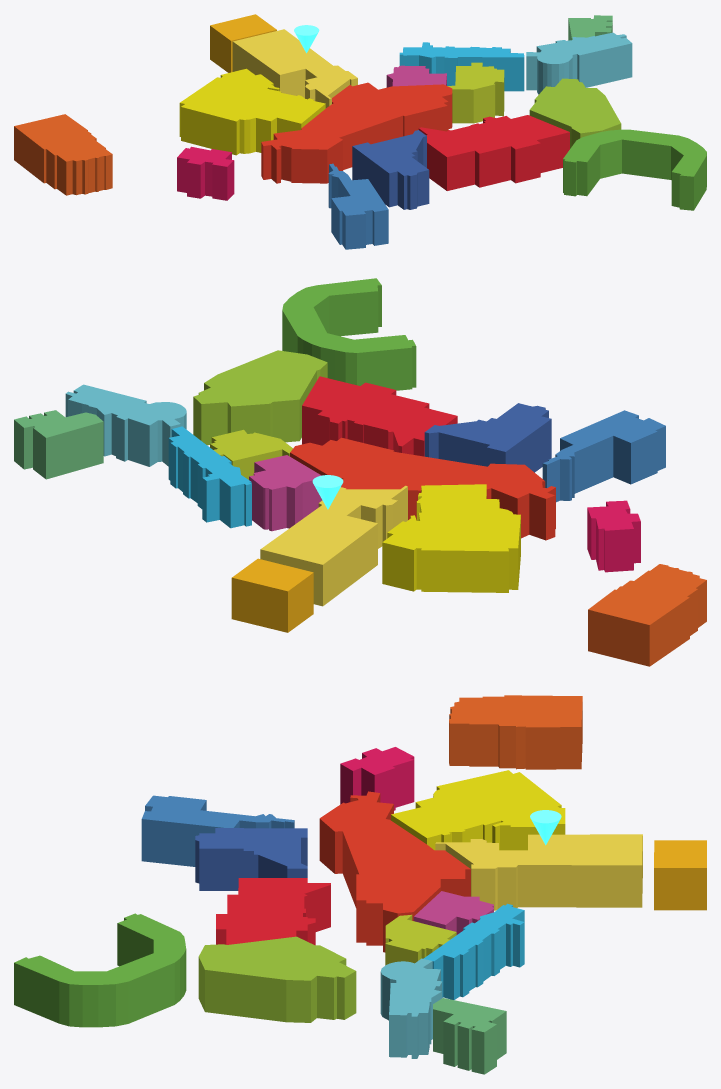
The model's file is sheridan2.gltf.
The picture shows the model from 3 angles, top to bottom: view 1: azimuth 30°, elevation 25°; view 2: azimuth 150°, elevation 25°; view 3: azimuth 270°, elevation 25°; orthographic projection. The views are drawn at different scales.
Parts seen in each view (by area): view 1: b-wing, c-wing, animation-centre, residence, athletics-centre, aa-wing, levy-centre, e-wing, g-wing, s-wing, h-wing, student-centre (+5 smaller); view 2: animation-centre, b-wing, residence, aa-wing, athletics-centre, s-wing, c-wing, g-wing, e-wing, levy-centre, h-wing, k-wing (+5 smaller); view 3: b-wing, aa-wing, residence, s-wing, athletics-centre, animation-centre, c-wing, e-wing, h-wing, g-wing, levy-centre, k-wing (+5 smaller).
Part boxes in pixels (<box>): b-wing: <box>261,82,452,183</box>; c-wing: <box>418,115,569,190</box>; animation-centre: <box>179,68,325,155</box>; residence: <box>563,129,706,210</box>; athletics-centre: <box>14,114,112,195</box>; aa-wing: <box>232,29,357,108</box>; levy-centre: <box>526,32,632,94</box>; e-wing: <box>352,130,429,209</box>; g-wing: <box>328,163,388,249</box>; s-wing: <box>529,78,621,148</box>; h-wing: <box>399,42,524,91</box>; student-centre: <box>447,62,504,123</box>; animation-centre: <box>382,484,520,592</box>; b-wing: <box>290,437,555,540</box>; residence: <box>282,278,416,390</box>; aa-wing: <box>260,485,407,606</box>; athletics-centre: <box>588,564,706,666</box>; s-wing: <box>193,350,327,445</box>; c-wing: <box>302,376,457,456</box>; g-wing: <box>542,410,665,502</box>; e-wing: <box>424,403,551,472</box>; levy-centre: <box>65,384,186,466</box>; h-wing: <box>168,426,251,528</box>; k-wing: <box>14,410,103,479</box>; b-wing: <box>319,791,470,952</box>; aa-wing: <box>435,834,642,910</box>; residence: <box>14,913,186,1027</box>; s-wing: <box>198,936,356,1022</box>; athletics-centre: <box>449,695,582,769</box>; animation-centre: <box>391,770,565,850</box>; c-wing: <box>216,878,330,945</box>; e-wing: <box>195,828,307,890</box>; h-wing: <box>423,903,524,999</box>; g-wing: <box>141,795,294,866</box>; levy-centre: <box>380,958,442,1058</box>; k-wing: <box>433,998,506,1074</box>.
Bounding box in the file's own units: 173 × 22.06 × 148.
